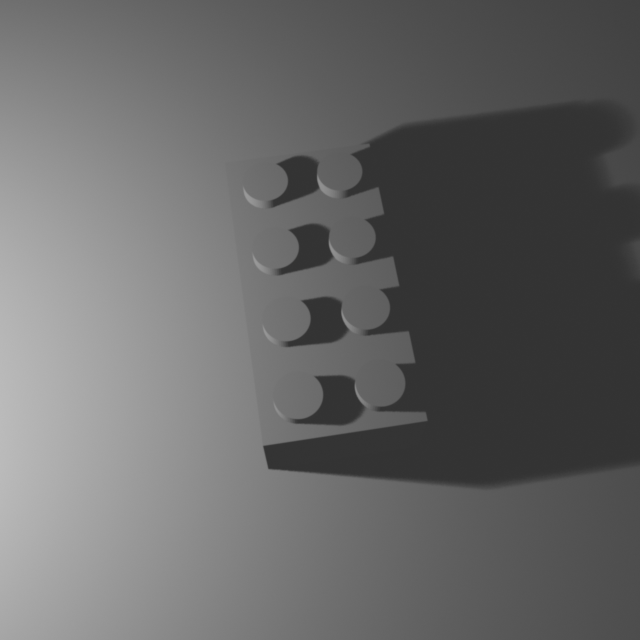lego_2x4: (223, 135, 429, 469)
